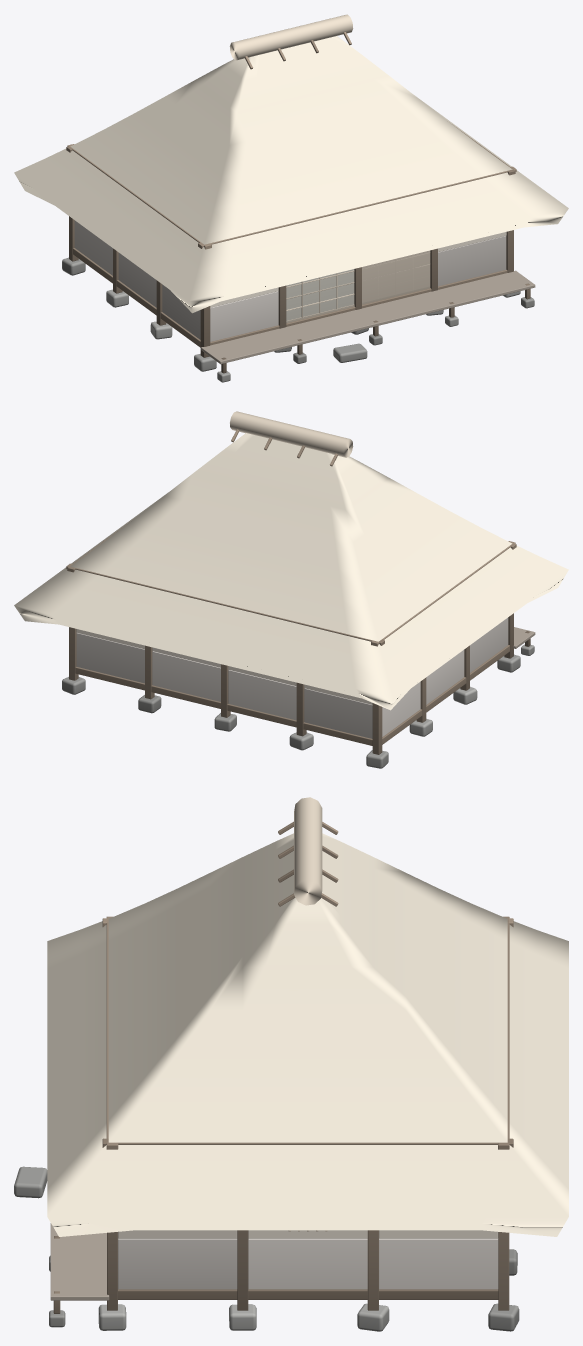
The model's file is minka_thatch.glb.
3 renders of one model, top to bottom at view 1: azimuth 30°, elevation 25°; view 2: azimuth 150°, elevation 25°; view 3: azimuth 270°, elevation 25°, orthographic. The views are drawn at different scales.
Parts seen in each view (by area): view 1: minka_thatch; view 2: minka_thatch; view 3: minka_thatch.
Part boxes in pixels (x1,y1,x2,y2): minka_thatch: (14, 14, 568, 382); minka_thatch: (14, 411, 568, 768); minka_thatch: (14, 797, 568, 1331).
Bounding box in the file's own units: 10 × 6.39 × 8.51.
